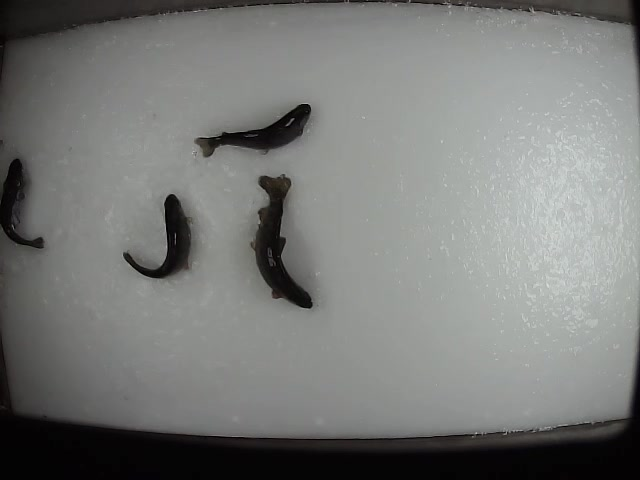fish: (249, 173, 314, 310), (189, 98, 312, 163), (120, 190, 195, 281), (1, 154, 47, 249)
